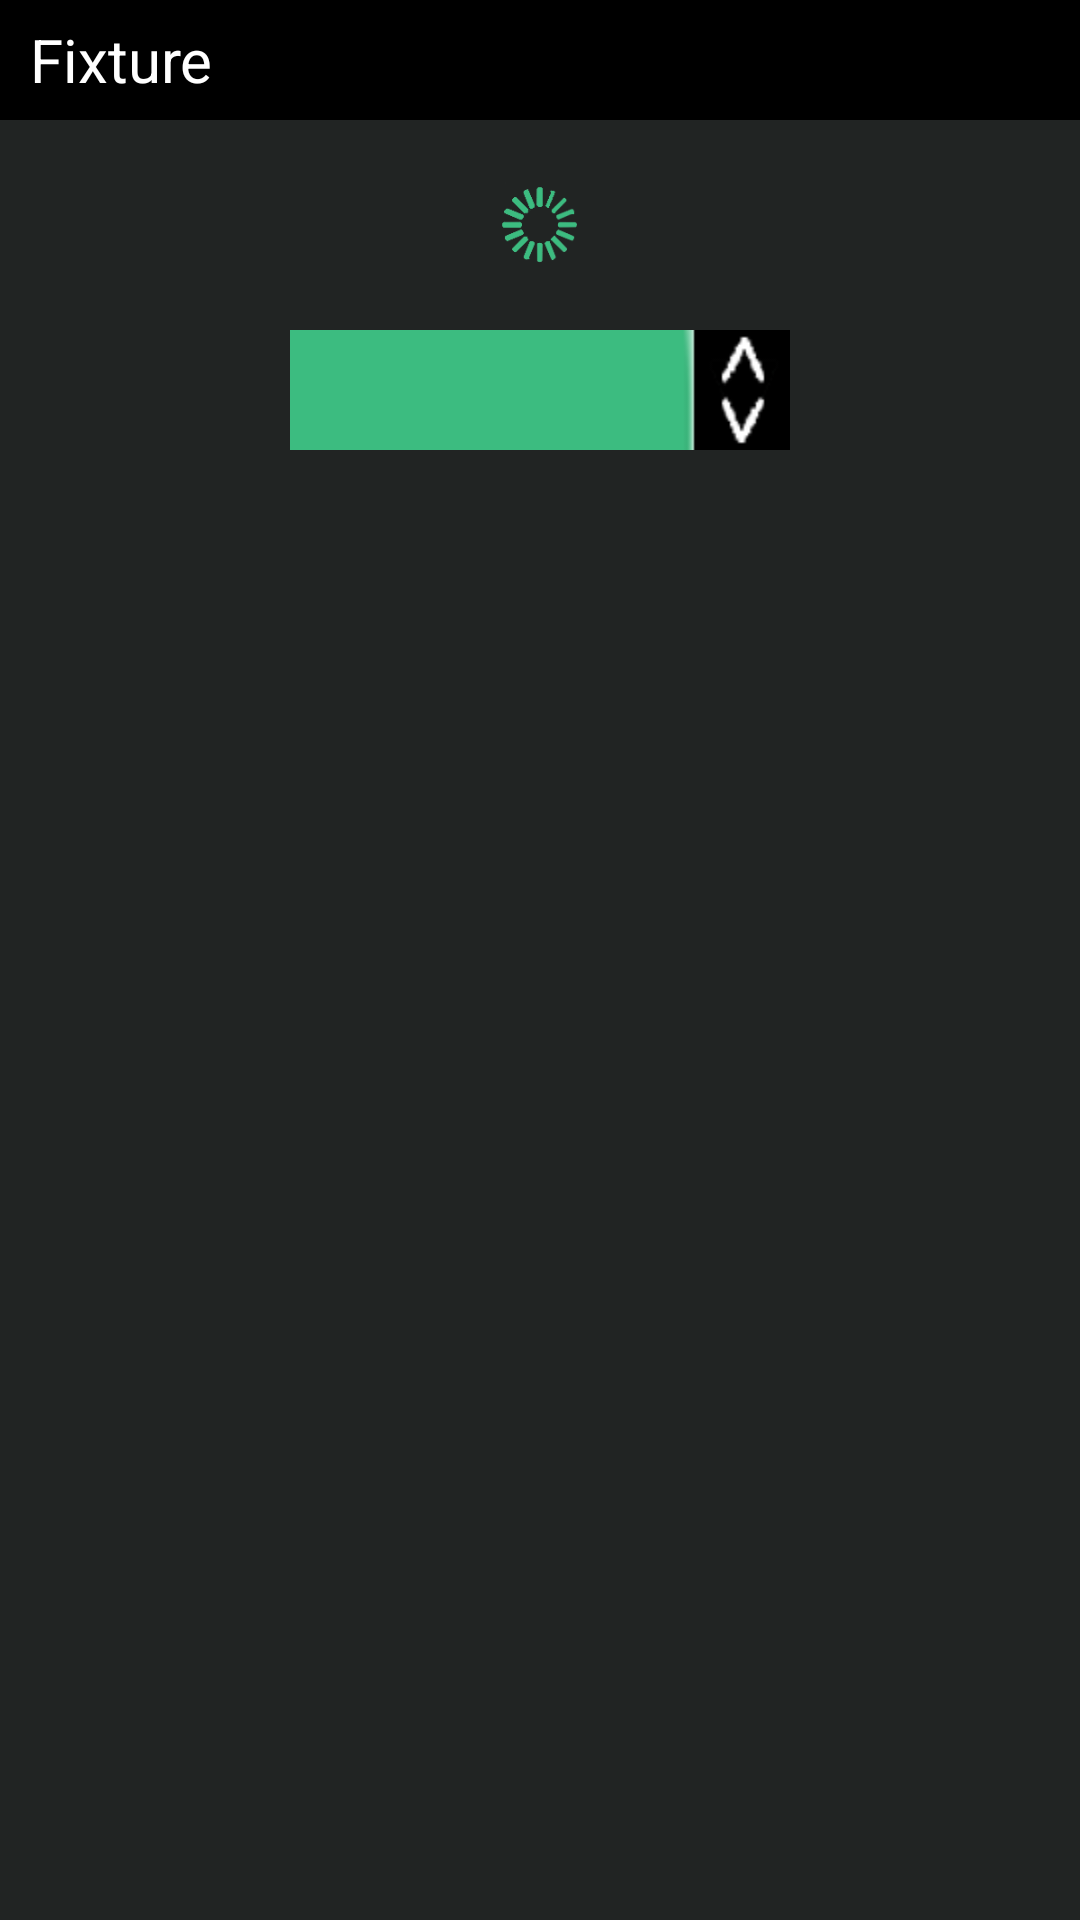

Icon click points for this 1080px×1920px phone screenshot, format (x=x, y=y):
cargando: (x=539, y=224)
